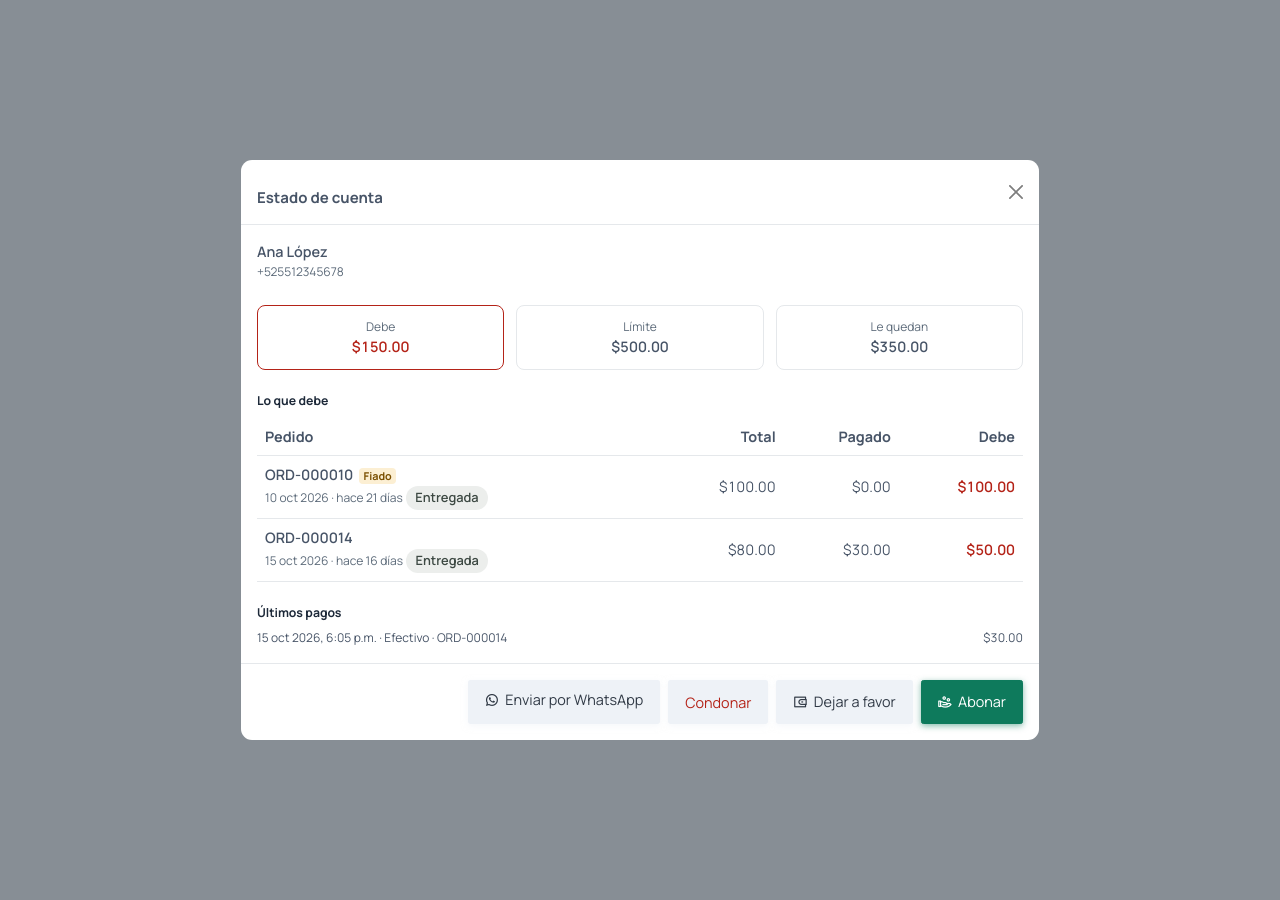
Test: CustomerAccountModal › keeps the write-off panel with the server’s reason when it is refused
Click the button "Condonar" at [718, 702], box [668, 680, 768, 724]
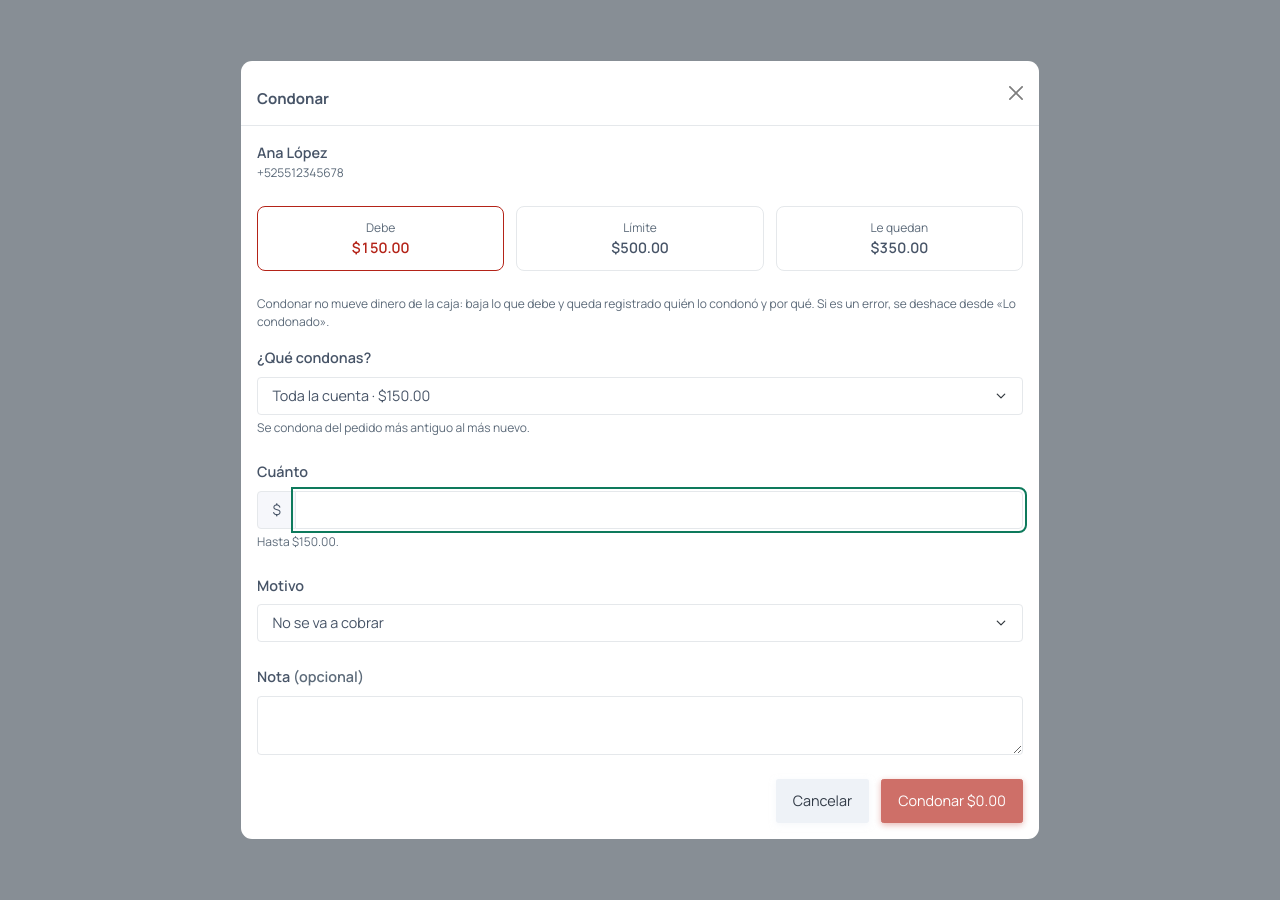
Type "150" into the field labelled "Cuánto" at [659, 510], box [295, 491, 1023, 529]
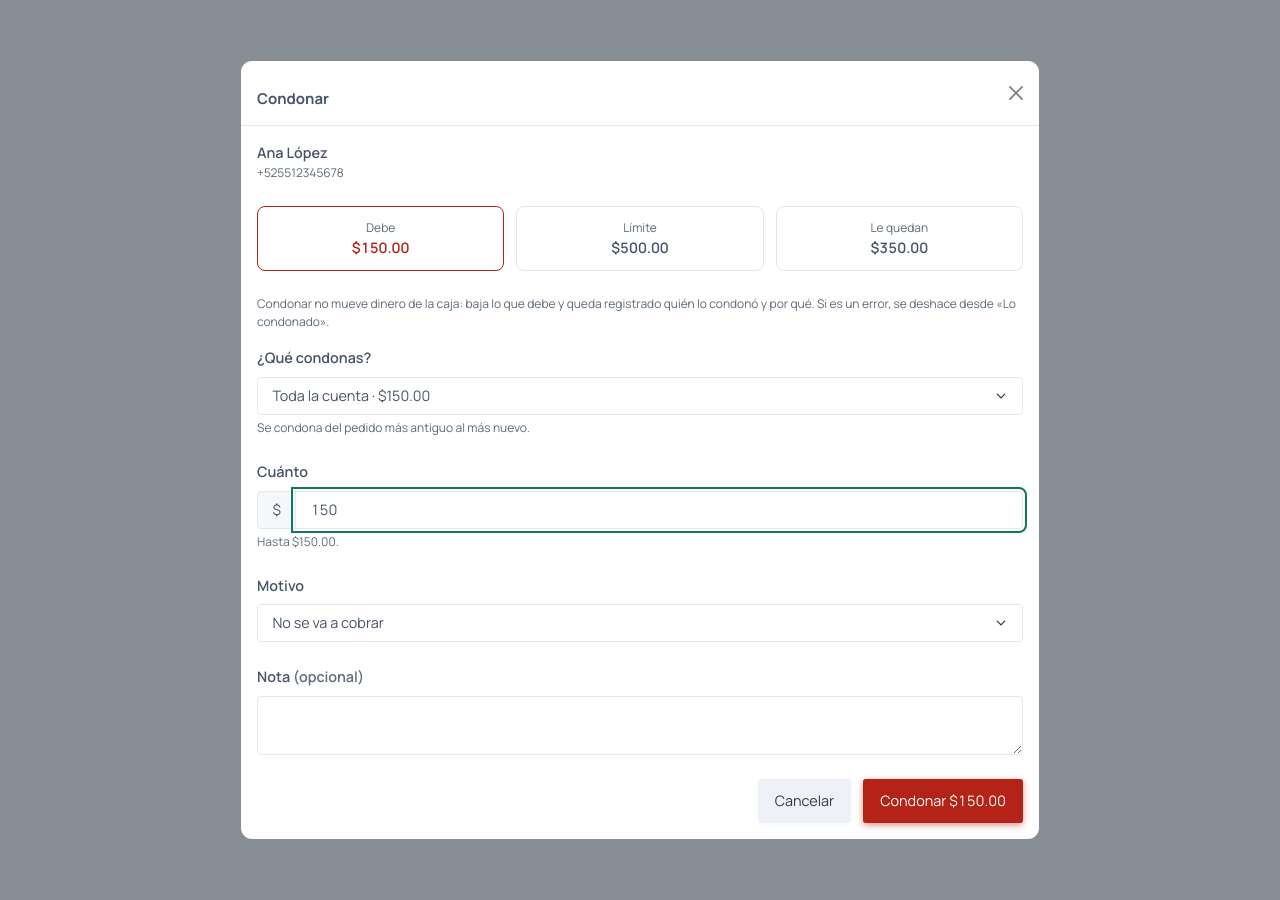
Click the button "Condonar $150.00" at [943, 801], box [863, 779, 1023, 823]
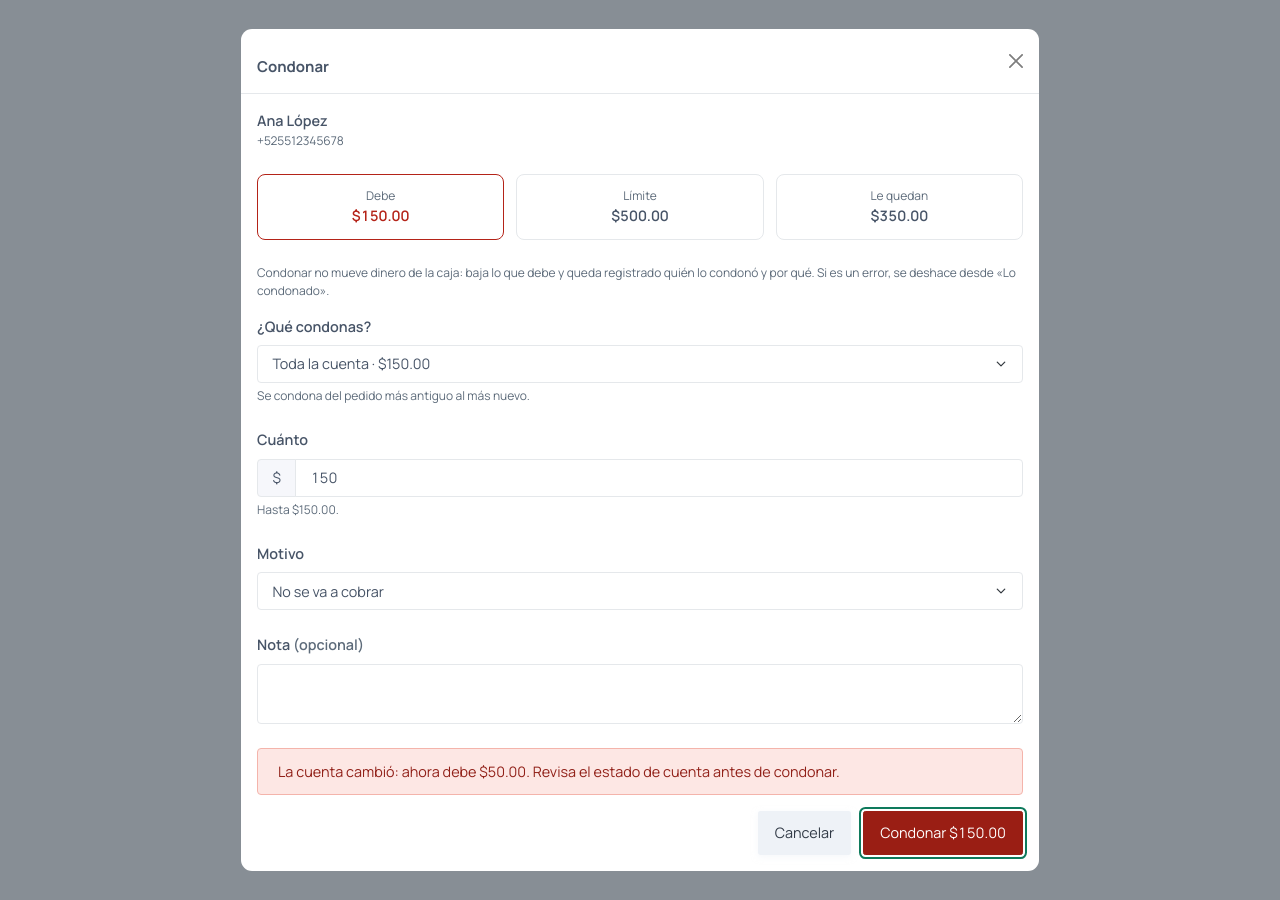
Check: the dialog "Condonar" is shown, box [240, 28, 1040, 872]
Check: the text "La cuenta cambió: ahora debe $50.00" is shown, box [278, 762, 840, 781]
